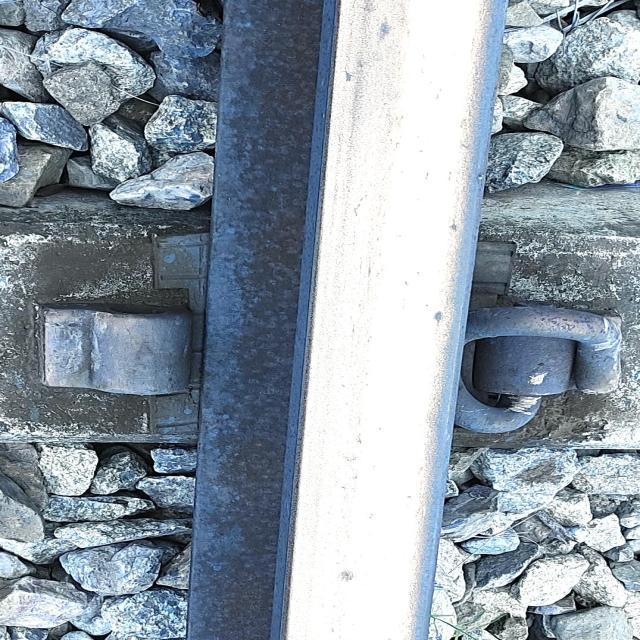Good Fasteners: (440, 289, 635, 461)
Missing Fastener: (0, 301, 214, 433)
